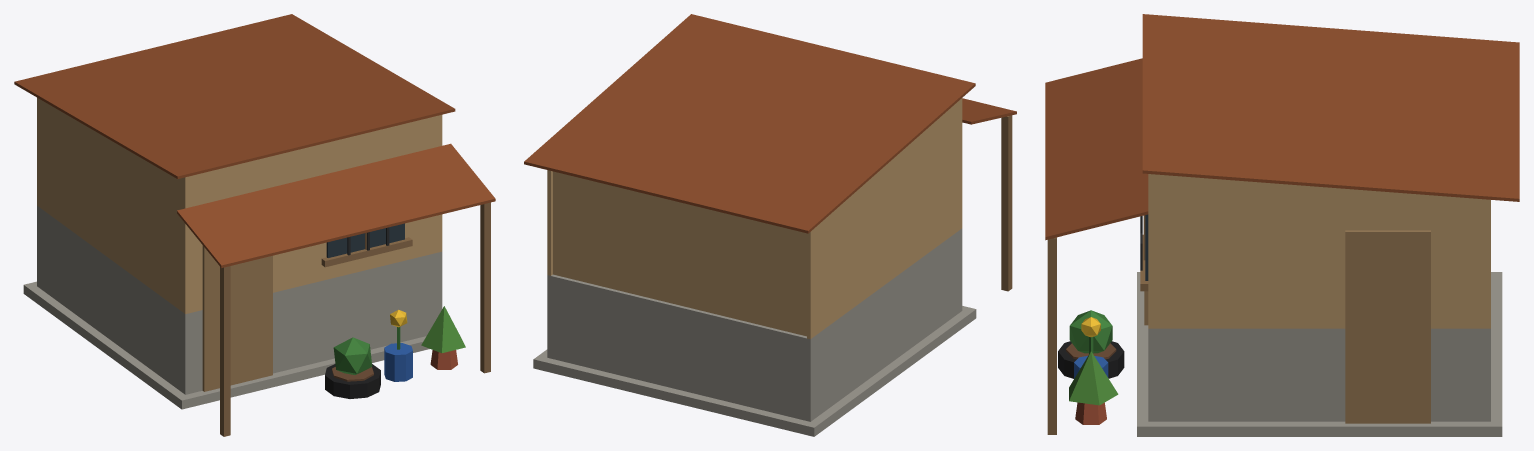
The model's file is BAY_I_SariSari_M.glb.
3 renders of one model, left to right at view 1: azimuth 30°, elevation 25°; view 2: azimuth 150°, elevation 25°; view 3: azimuth 270°, elevation 25°, orthographic. The views are drawn at different scales.
Visible parts, largest first — view 1: BAY_I_SariSari_M; view 2: BAY_I_SariSari_M; view 3: BAY_I_SariSari_M.
Boxes of the visible parts, <box> form: BAY_I_SariSari_M: <box>14,14,495,436</box>; BAY_I_SariSari_M: <box>524,14,1016,436</box>; BAY_I_SariSari_M: <box>1045,14,1519,436</box>.
Bounding box in the file's own units: 3.24 × 2.58 × 4.15.
Materials: 1 (1 with a texture image).
